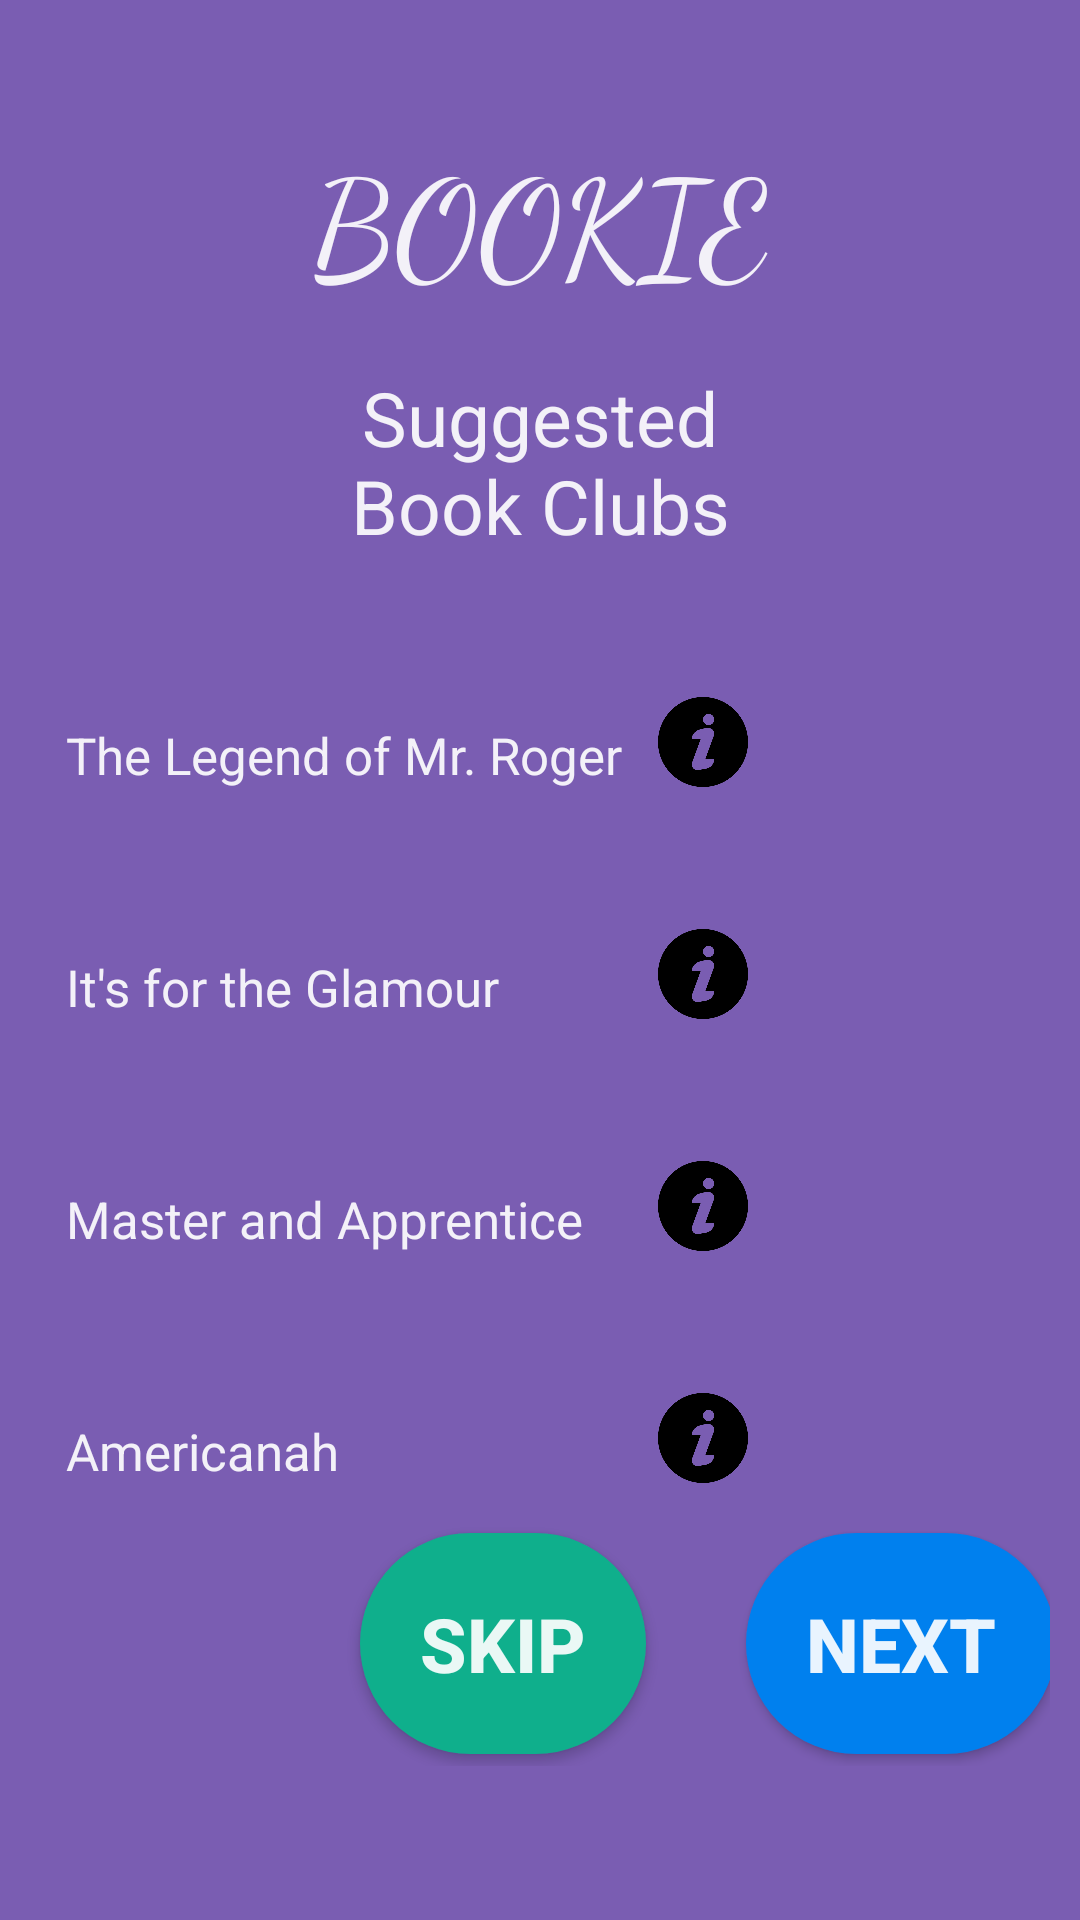

Point at icon controls on the screen. Image size 1080 × 1920, points as [x,y].
info: [703,742], [703,974], [703,1206], [703,1438]
